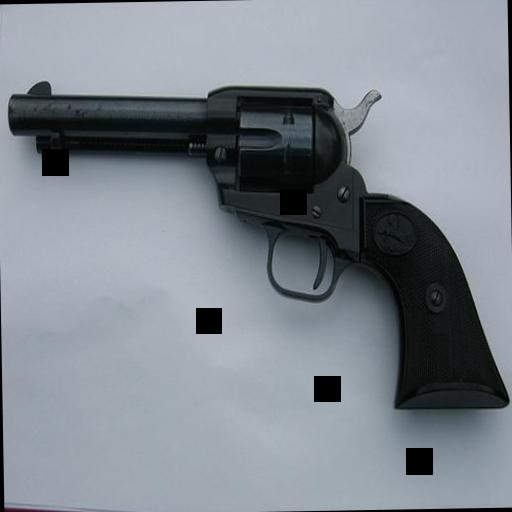Handgun: (6, 70, 508, 422)
